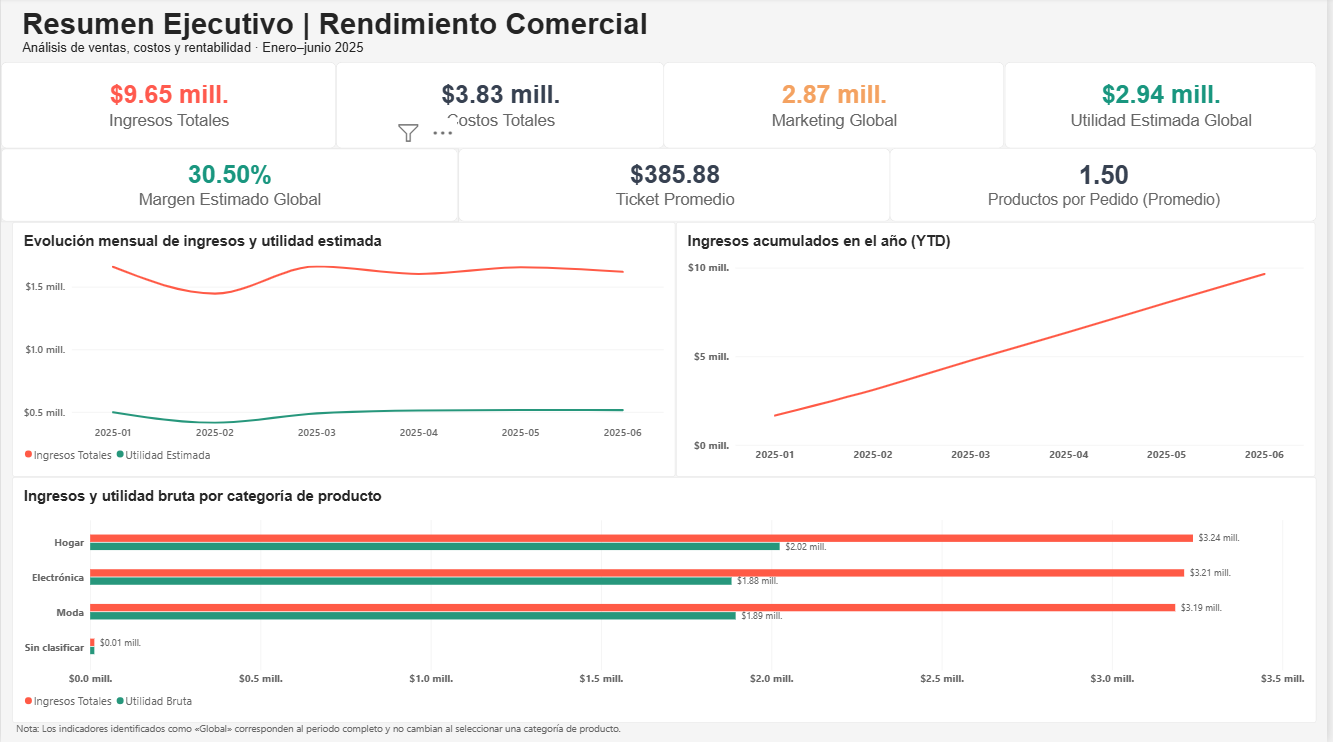

This screenshot's page, from the dashboard's own definition file:
{"tool":"powerbi","page":{"name":"Dasboard_1 Overview Ejecutivo","canvas":[1920,1080],"ordinal":0},"visuals":[{"type":"cardVisual","fields":{"Data":["orders_clean.Revenue Total"]},"box":[0,93.3,485,125],"z":0},{"type":"cardVisual","fields":{"Data":["orders_clean.Costo Total"]},"box":[485,93.3,475,125],"z":1000},{"type":"cardVisual","fields":{"Data":["marketing_clean.Gasto Marketing"]},"box":[960,93.3,493.3,125],"z":2000},{"type":"cardVisual","fields":{"Data":["orders_clean.Profit Estimado"]},"box":[1453.3,93.3,451.7,125],"z":3000},{"type":"cardVisual","fields":{"Data":["orders_clean.Margen Profit Estimado"]},"box":[0,218.3,661.7,106.7],"z":4000},{"type":"cardVisual","fields":{"Data":["orders_clean.Ticket Promedio"]},"box":[661.7,218.3,625,106.7],"z":5000},{"type":"cardVisual","fields":{"Data":["orders_clean.Productos Promedio por Orden"]},"box":[1286.7,218.3,618.3,106.7],"z":6000},{"type":"lineChart","title":"Evolución mensual de ingresos y utilidad estimada","fields":{"Category":["dim_fecha.Año_Mes"],"Y":["orders_clean.Revenue Total","orders_clean.Profit Estimado"]},"box":[17.1,325.7,960,368.6],"z":7000},{"type":"lineChart","title":"Ingresos acumulados en el año (YTD)","fields":{"Category":["dim_fecha.Año_Mes"],"Y":["orders_clean.Revenue YTD"]},"box":[977.1,325.7,925.7,368.6],"z":8000},{"type":"clusteredBarChart","title":"Ingresos y utilidad bruta por categoría de producto","fields":{"Category":["orders_clean.Categoria Visual"],"Y":["orders_clean.Revenue Total","orders_clean.Profit Bruto"]},"box":[17.1,694.3,1888,356],"z":9000},{"type":"textbox","box":[31.4,14.3,928.6,80],"z":10000},{"type":"textbox","box":[22.1,1050,1220.6,29.4],"z":10001}]}

Visuals, with their boxes in screenshot pixels (x1, y1, x2, y2), scaled from the page's 1920x1080 canvas onto the 1333x742 screenshot:
cardVisual - orders_clean.Revenue Total: bbox=(0, 64, 337, 150)
cardVisual - orders_clean.Costo Total: bbox=(337, 64, 666, 150)
cardVisual - marketing_clean.Gasto Marketing: bbox=(666, 64, 1009, 150)
cardVisual - orders_clean.Profit Estimado: bbox=(1009, 64, 1323, 150)
cardVisual - orders_clean.Margen Profit Estimado: bbox=(0, 150, 459, 223)
cardVisual - orders_clean.Ticket Promedio: bbox=(459, 150, 893, 223)
cardVisual - orders_clean.Productos Promedio por Orden: bbox=(893, 150, 1323, 223)
"Evolución mensual de ingresos y utilidad estimada" lineChart: bbox=(12, 224, 678, 477)
"Ingresos acumulados en el año (YTD)" lineChart: bbox=(678, 224, 1321, 477)
"Ingresos y utilidad bruta por categoría de producto" clusteredBarChart: bbox=(12, 477, 1323, 722)
textbox: bbox=(22, 10, 666, 65)
textbox: bbox=(15, 721, 863, 741)
